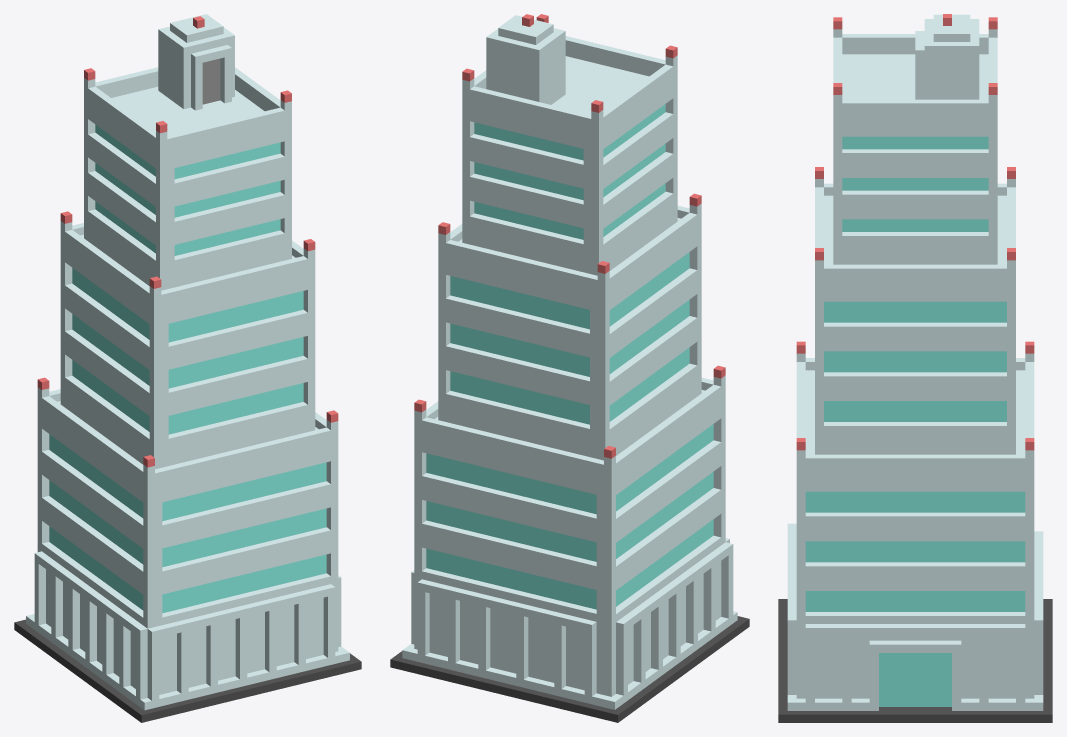
Rendered from skyscraper3.obj.
The picture shows the model from 3 angles, left to right: view 1: azimuth 30°, elevation 25°; view 2: azimuth 150°, elevation 25°; view 3: azimuth 270°, elevation 25°; orthographic projection. The views are drawn at different scales.
Size of the model in its own units: 30 by 80 by 30.
